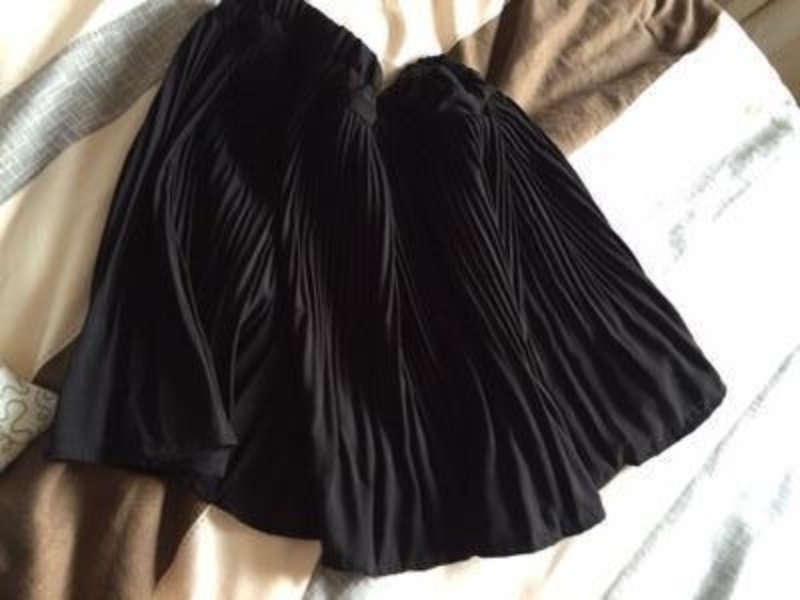skirt: (48, 2, 732, 578)
